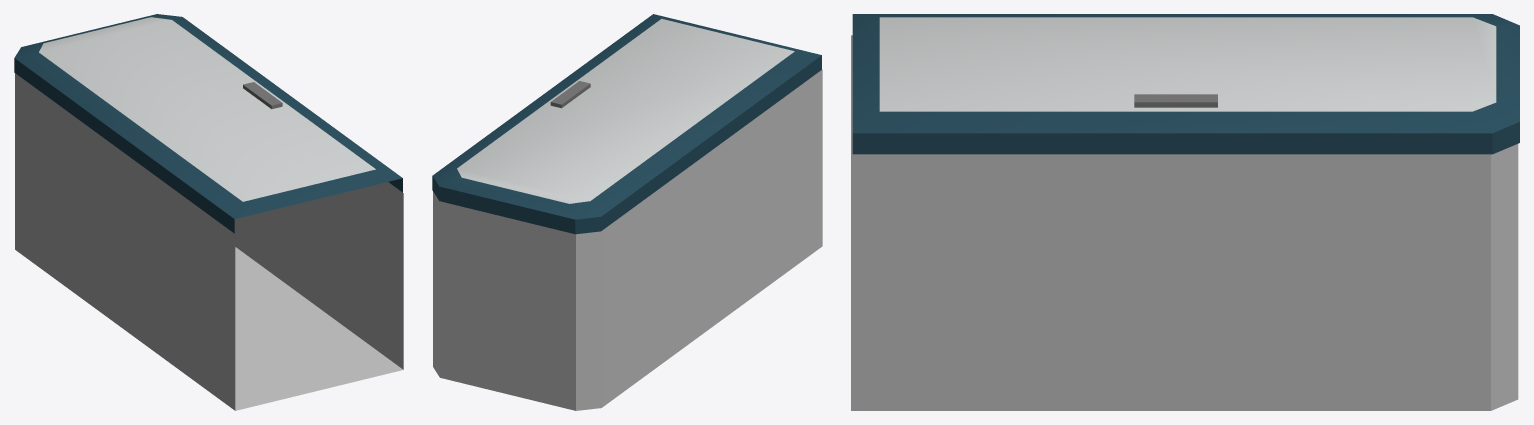
The model's file is Locker 01 Low Poly.FBX.
The picture shows the model from 3 angles, left to right: view 1: azimuth 30°, elevation 25°; view 2: azimuth 150°, elevation 25°; view 3: azimuth 270°, elevation 25°; orthographic projection. The views are drawn at different scales.
Visible parts, largest first — view 1: Locker 01 Low Poly; view 2: Locker 01 Low Poly; view 3: Locker 01 Low Poly.
Boxes of the visible parts, bbox=[...] form: Locker 01 Low Poly: bbox=[14, 14, 403, 410]; Locker 01 Low Poly: bbox=[432, 14, 822, 410]; Locker 01 Low Poly: bbox=[851, 14, 1519, 410].
Size of the model in its own units: 84.57 by 96.64 by 200.
Materials: 1 (1 with a texture image).
